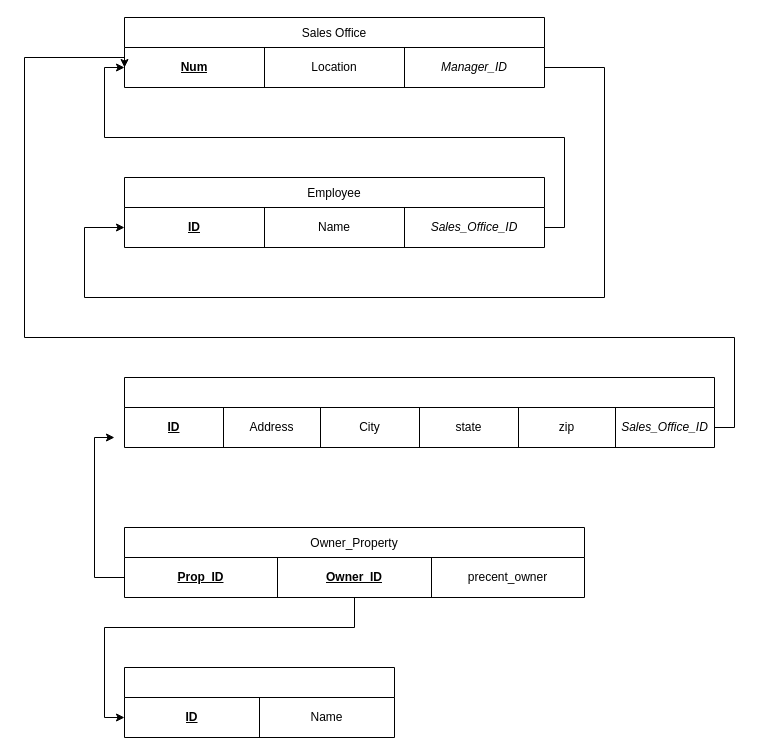
This 760x755 diagram has some shape labels left out. The shapes that lost their labels are listed below. From the top down, each one's box as (x1, y1, x2, y2) in pixels, then its label:
(124, 376, 714, 448): Property
(124, 666, 394, 738): Owner
